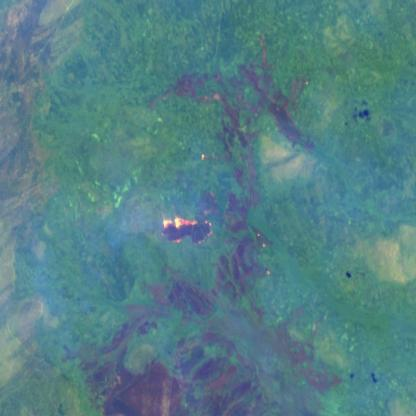fire: (156, 210, 216, 251)
